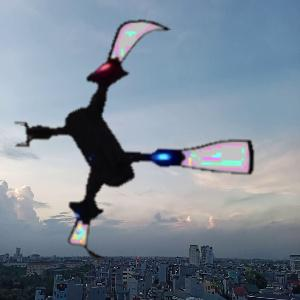drone: (11, 15, 264, 268)
